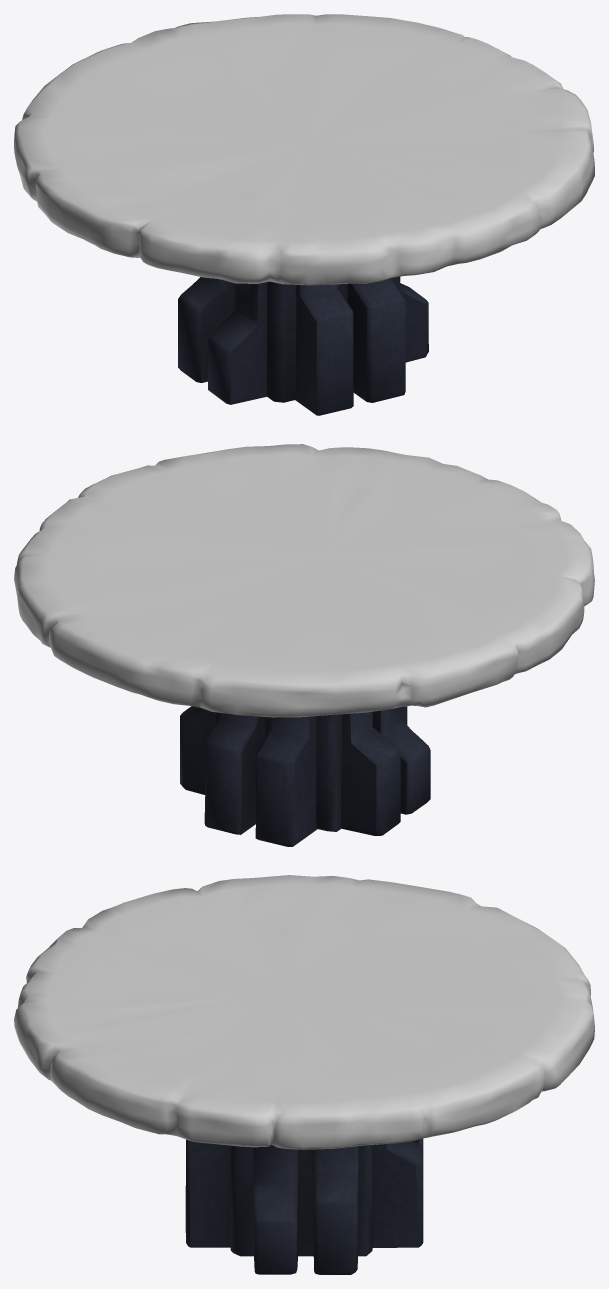
The model's file is Table.FBX.
3 renders of one model, top to bottom at view 1: azimuth 30°, elevation 25°; view 2: azimuth 150°, elevation 25°; view 3: azimuth 270°, elevation 25°, orthographic.
Visible parts, largest first — view 1: Table; view 2: Table; view 3: Table.
Boxes of the visible parts, bbox=[...] form: Table: bbox=[14, 14, 594, 415]; Table: bbox=[14, 444, 594, 846]; Table: bbox=[14, 875, 594, 1274].
Size of the model in its own units: 64.44 by 28.51 by 64.74.
